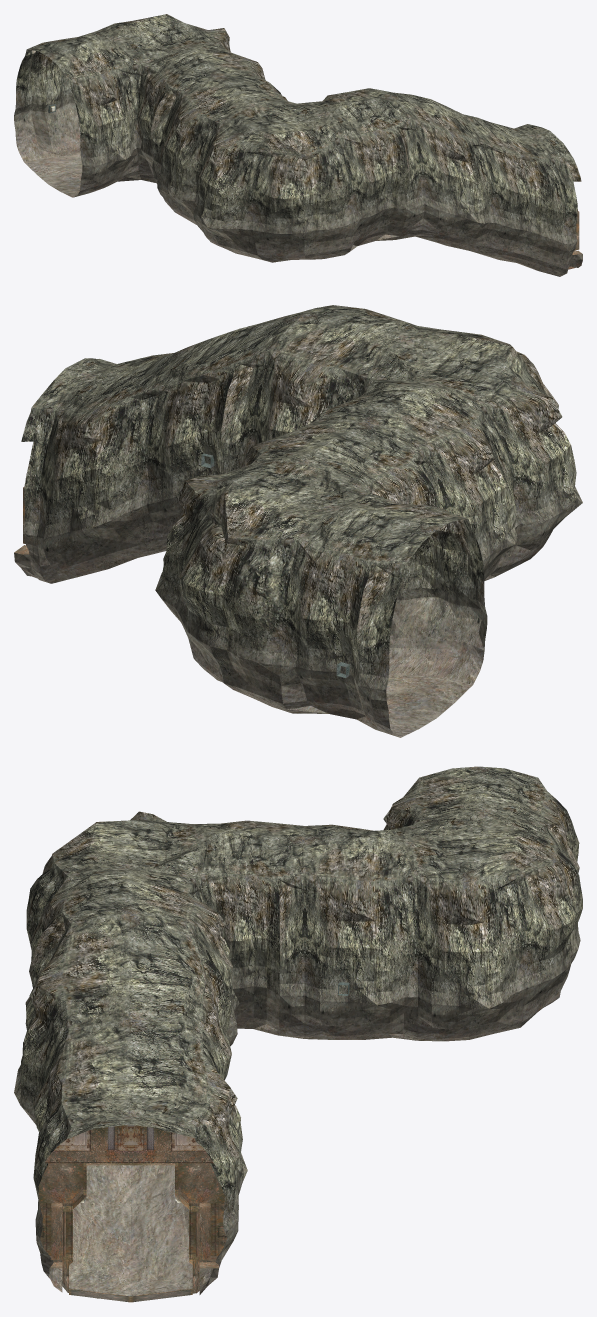
The model's file is poi_all_bunker_mad_bio_s01_r15_hall4_mesh_r15.fbx.
3 renders of one model, top to bottom at view 1: azimuth 30°, elevation 25°; view 2: azimuth 150°, elevation 25°; view 3: azimuth 270°, elevation 25°, orthographic. The views are drawn at different scales.
Visible parts, largest first — view 1: mesh_node; view 2: mesh_node; view 3: mesh_node.
Part boxes in pixels (bbox=[...]): mesh_node: bbox=[14, 14, 582, 276]; mesh_node: bbox=[14, 305, 582, 737]; mesh_node: bbox=[14, 766, 582, 1302].
Size of the model in its own units: 21.01 by 10.99 by 19.63.
